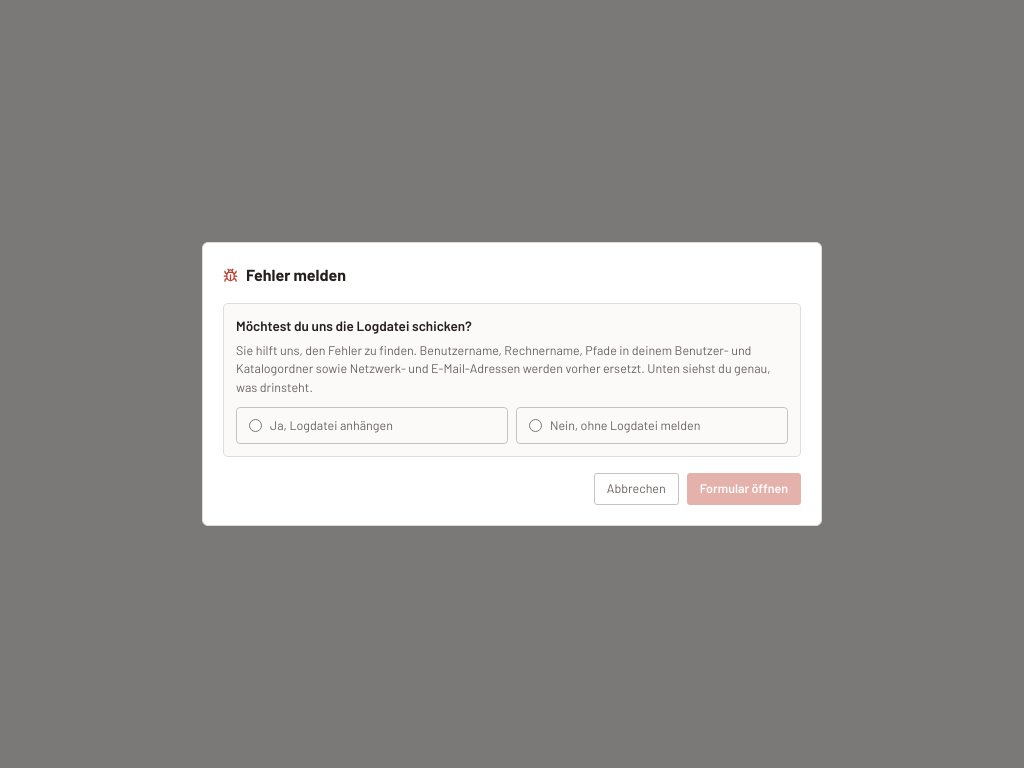
Test: BugReportDialog › ignores a stale preview response that resolves after a newer one
The image size is (1024, 768).
What coordinates should you click on to do the following:
click the text "Ja, Logdatei anhängen"
I would click on:
 (372, 425)
Its box is [236,407,508,444].
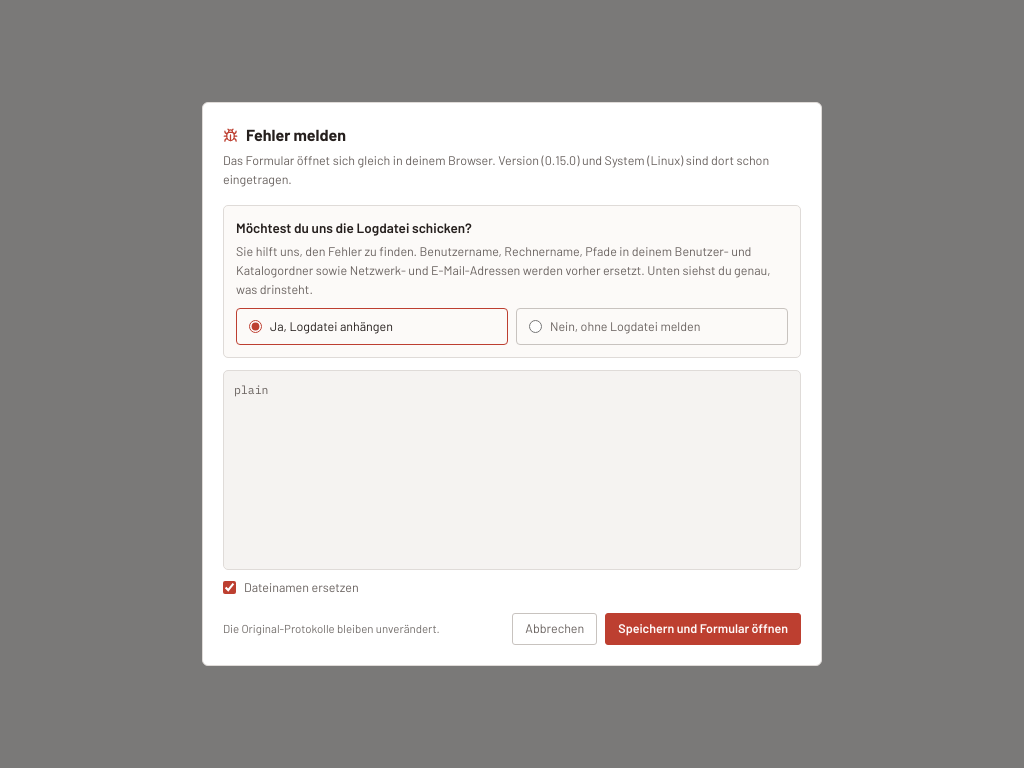
Expected: the checkbox is shown
Note: Two rapid toggles: the first (older) request resolves last.
What coordinates should you click on to do the following:
click the checkbox
I would click on:
 (230, 587)
Its box is [223,581,236,594].
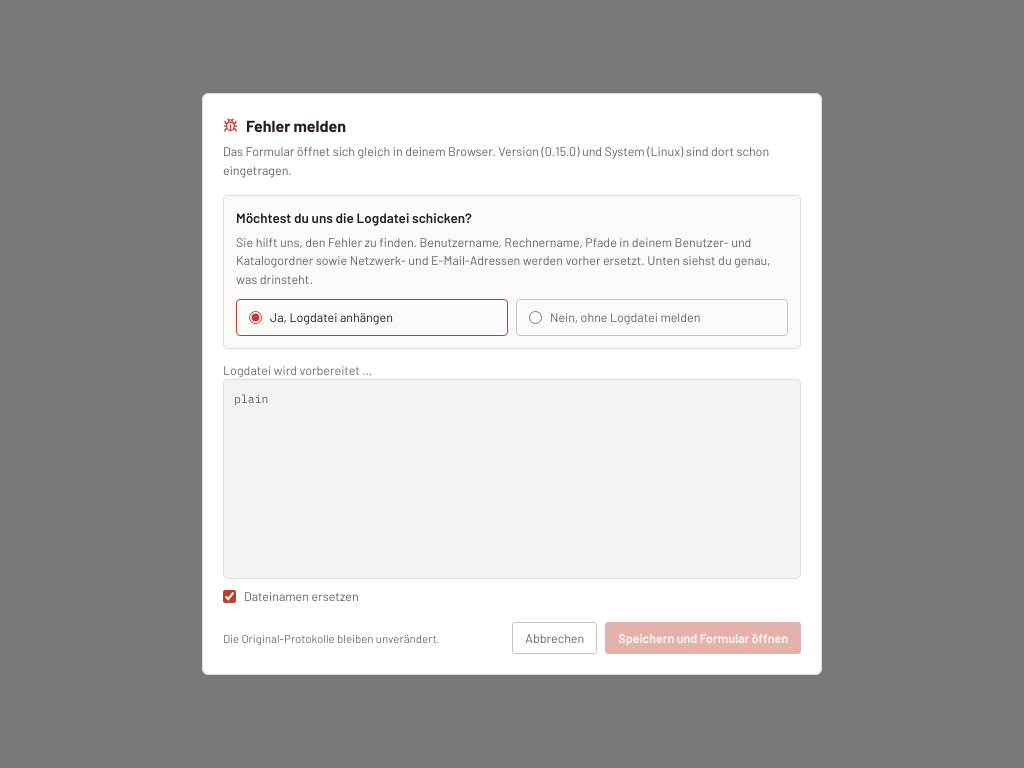
What coordinates should you click on to do the following:
click the checkbox
I would click on:
 (230, 597)
Its box is [223,590,236,603].
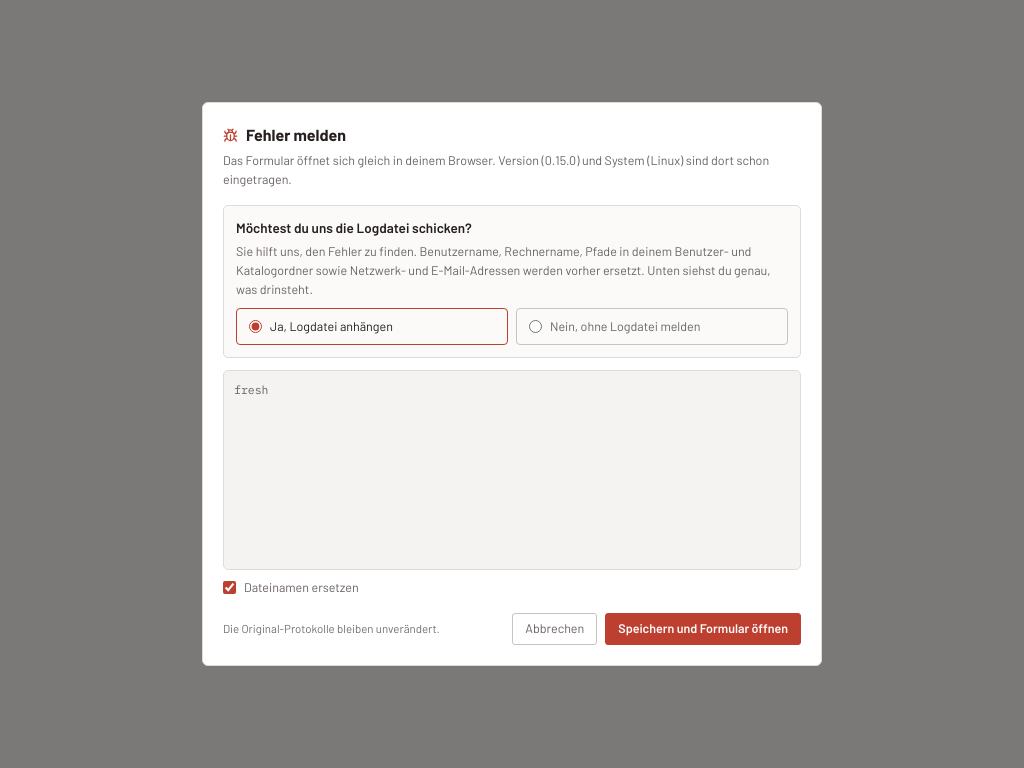
Expected: the text "fresh" is shown, [234,382,268,397]
